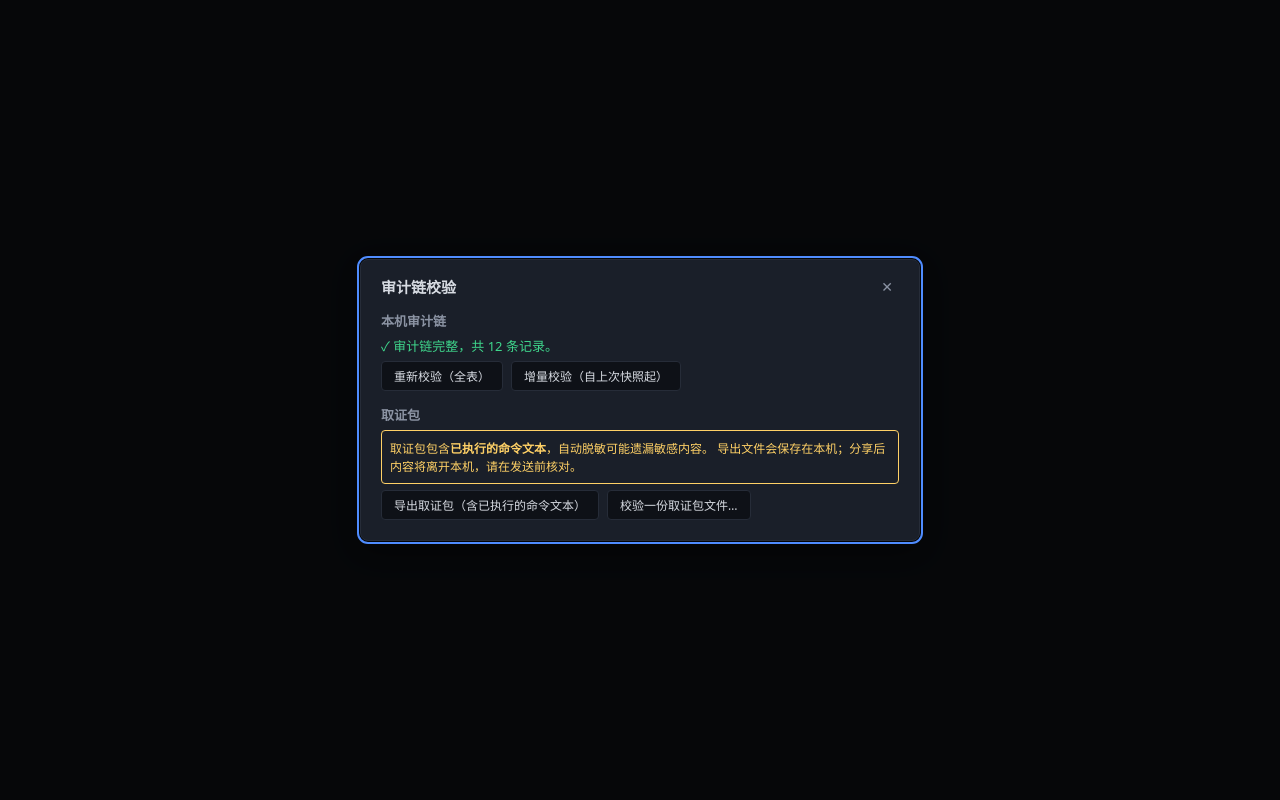
增量校验 › 增量查出断链显示 ✗ 并上 alert
The image size is (1280, 800).
Click the button with test id "audit-quick": x=596, y=376 x1=511 y1=361 x2=681 y2=391
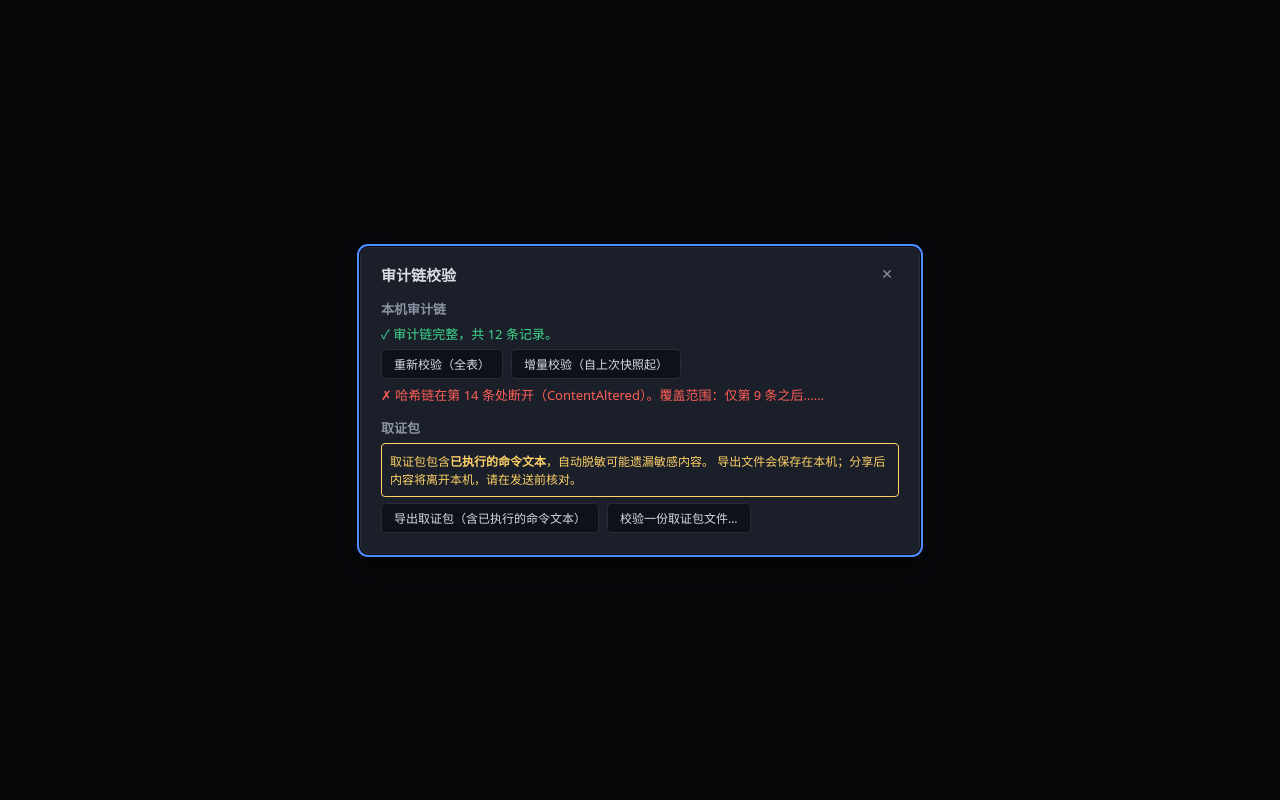
Check: the message "✗ 哈希链在第 14 条处断开（ContentAltered）。覆盖范围：仅第 9 条之后……" is shown, box x1=381 y1=384 x2=899 y2=404
Check: the message with test id "audit-quick-result" shows "✗", box x1=381 y1=386 x2=824 y2=404
